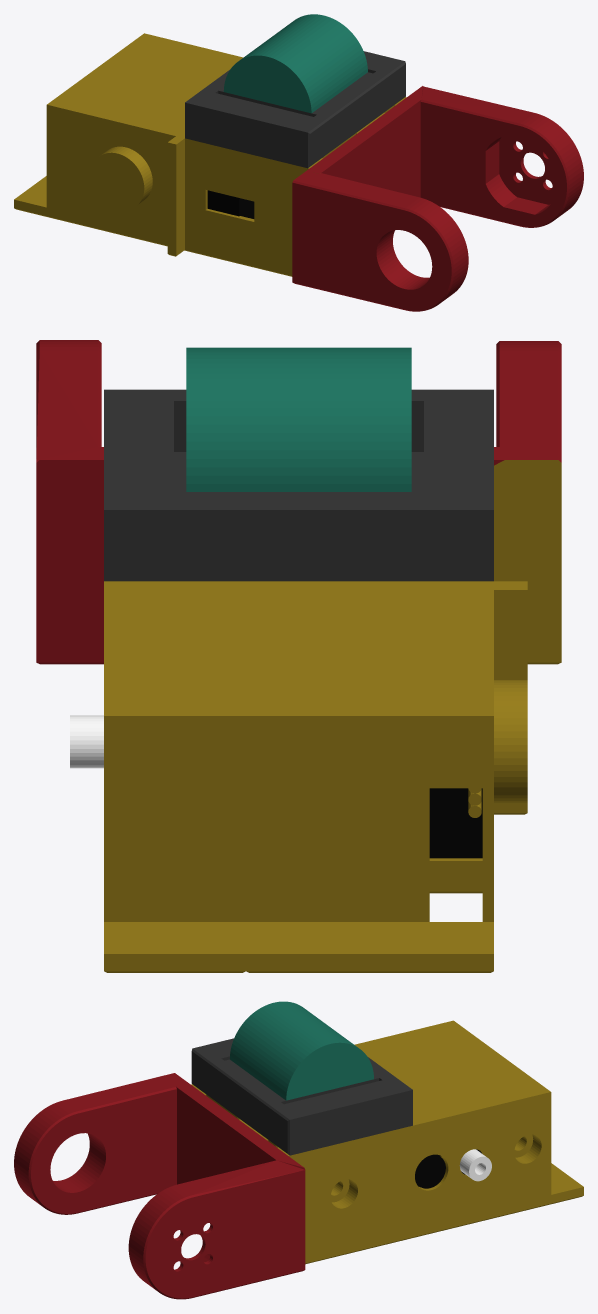
Rendered from finger_link211.dae.
3 views of the same model, one above another, from view 1: azimuth 30°, elevation 25°; view 2: azimuth 150°, elevation 25°; view 3: azimuth 270°, elevation 25° (orthographic). The views are drawn at different scales.
Parts seen in each view (by area): view 1: finger_link211.001; view 2: finger_link211.001; view 3: finger_link211.001.
Boxes of the visible parts, x1,y1,x2,y2 form: finger_link211.001: [14, 14, 583, 311]; finger_link211.001: [36, 340, 561, 972]; finger_link211.001: [14, 1001, 583, 1299].
Size of the model in its own units: 81.78 by 101 by 38.14.
